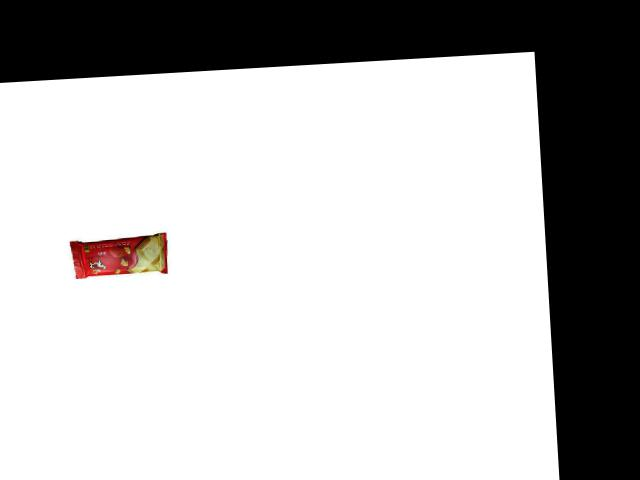chocolate: (62, 226, 169, 282)
